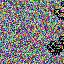sheep: (54, 8, 64, 20), (58, 35, 64, 49)
